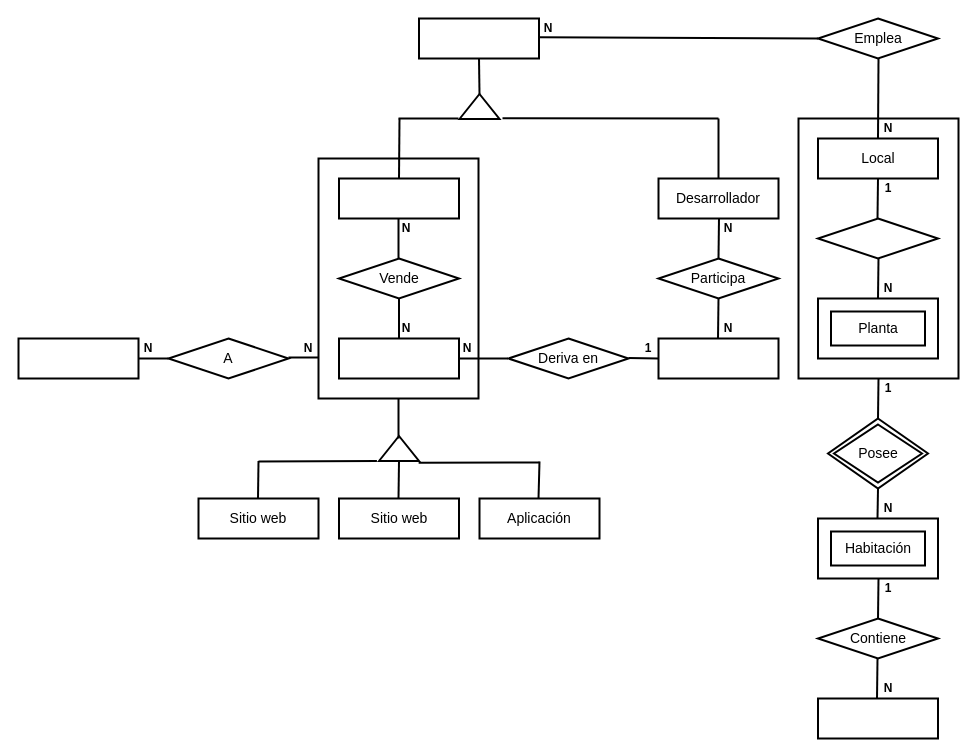
The diagram is 976 pixels wide and 756 high, and some of its shapes have lost their labels. Each missing label, with the centre of its shape:
"Cliente" belongs at [78,358].
"Empleado" belongs at [479,38].
"Equipo" belongs at [877,718].
"Producto" belongs at [399,358].
"Proyecto" belongs at [718,358].
"Tiene" belongs at [877,238].
"Vendedor" belongs at [399,198].
